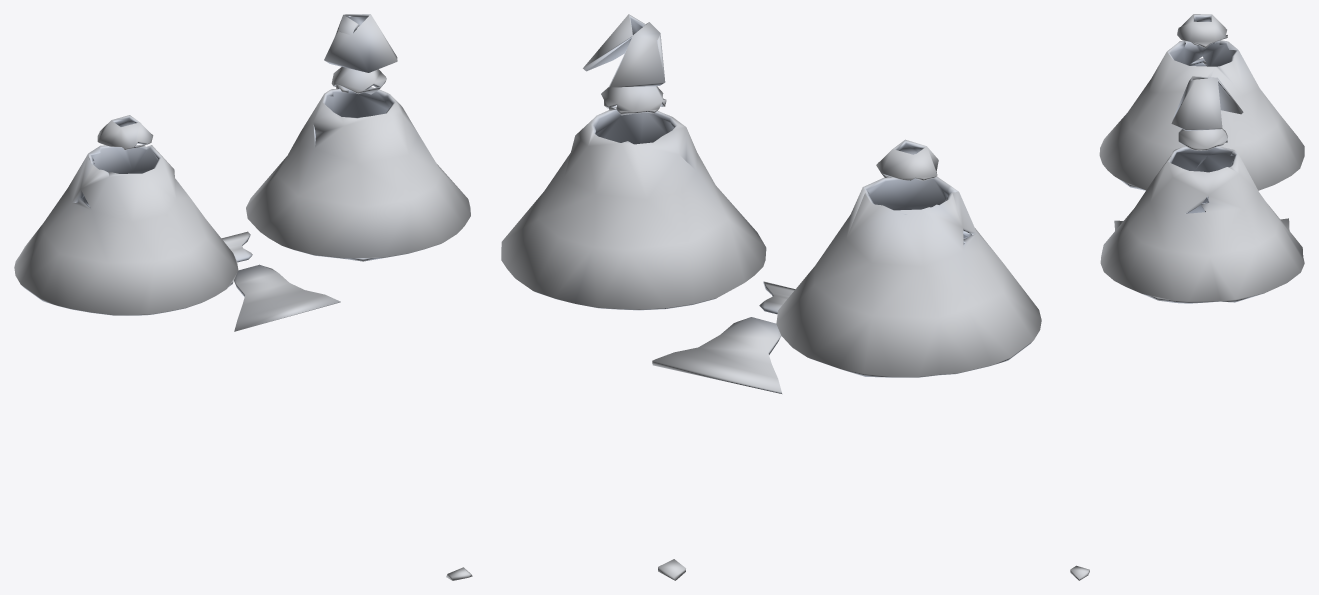
Rendered from gate.snow.glb.
3 views of the same model, side by side, from view 1: azimuth 30°, elevation 25°; view 2: azimuth 150°, elevation 25°; view 3: azimuth 270°, elevation 25° (orthographic). The views are drawn at different scales.
Parts seen in each view (by area): view 1: town.gate.snow.mesh, tier.6; view 2: town.gate.snow.mesh, tier.6; view 3: town.gate.snow.mesh, tier.6.
Boxes of the visible parts, box(x1,y1,x2,y2) form: town.gate.snow.mesh: box(14, 67, 472, 580); tier.6: box(324, 14, 397, 72); town.gate.snow.mesh: box(501, 86, 1041, 580); tier.6: box(583, 14, 665, 87); town.gate.snow.mesh: box(1070, 14, 1304, 580); tier.6: box(1171, 76, 1243, 130).
Size of the model in its own units: 7.32 by 8.66 by 3.8.
